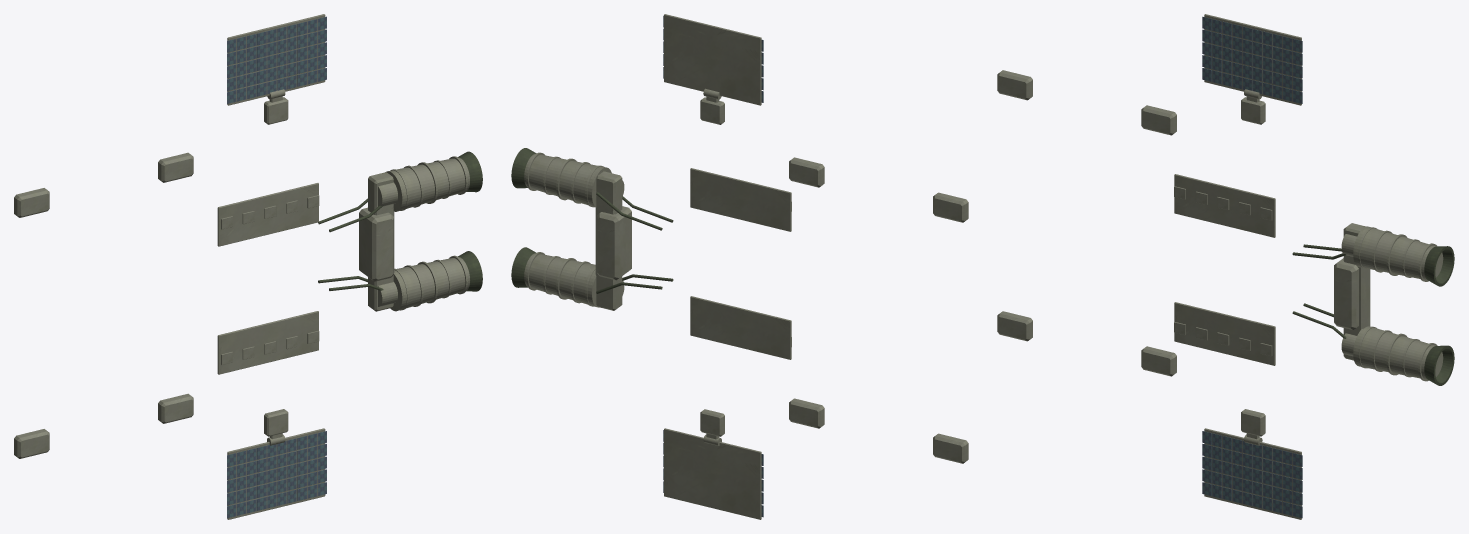
Rendered from ECHO7_11_Propulsion_Paneles.obj.
3 renders of one model, left to right at view 1: azimuth 30°, elevation 25°; view 2: azimuth 150°, elevation 25°; view 3: azimuth 330°, elevation 25°, orthographic.
Visible parts, largest first — view 1: ECHO7_11_Propulsion_Paneles__Soporte_radiadores_01, ECHO7_11_Propulsion_Paneles__Soporte_radiadores_02, ECHO7_11_Propulsion_Paneles__Cuerpo_motor_02, ECHO7_11_Propulsion_Paneles__Cuerpo_motor_01, ECHO7_11_Propulsion_Paneles__Nucleo_ingenieria_01, ECHO7_11_Propulsion_Paneles__Panel_solar_marco_02, ECHO7_11_Propulsion_Paneles__Panel_solar_marco_01, ECHO7_11_Propulsion_Paneles__Travesano_motores_01, ECHO7_11_Propulsion_Paneles__Union_estructural_lateral_02, ECHO7_11_Propulsion_Paneles__Union_estructural_lateral_04, ECHO7_11_Propulsion_Paneles__Union_estructural_lateral_03, ECHO7_11_Propulsion_Paneles__Union_estructural_lateral_01 (+4 smaller); view 2: ECHO7_11_Propulsion_Paneles__Panel_solar_marco_02, ECHO7_11_Propulsion_Paneles__Panel_solar_marco_01, ECHO7_11_Propulsion_Paneles__Soporte_radiadores_01, ECHO7_11_Propulsion_Paneles__Soporte_radiadores_02, ECHO7_11_Propulsion_Paneles__Cuerpo_motor_02, ECHO7_11_Propulsion_Paneles__Cuerpo_motor_01, ECHO7_11_Propulsion_Paneles__Nucleo_ingenieria_01, ECHO7_11_Propulsion_Paneles__Travesano_motores_01, ECHO7_11_Propulsion_Paneles__Union_estructural_lateral_02, ECHO7_11_Propulsion_Paneles__Union_estructural_lateral_04, ECHO7_11_Propulsion_Paneles__Union_estructural_lateral_01, ECHO7_11_Propulsion_Paneles__Union_estructural_lateral_03 (+4 smaller); view 3: ECHO7_11_Propulsion_Paneles__Soporte_radiadores_01, ECHO7_11_Propulsion_Paneles__Soporte_radiadores_02, ECHO7_11_Propulsion_Paneles__Cuerpo_motor_02, ECHO7_11_Propulsion_Paneles__Cuerpo_motor_01, ECHO7_11_Propulsion_Paneles__Panel_solar_marco_02, ECHO7_11_Propulsion_Paneles__Panel_solar_marco_01, ECHO7_11_Propulsion_Paneles__Nucleo_ingenieria_01, ECHO7_11_Propulsion_Paneles__Travesano_motores_01, ECHO7_11_Propulsion_Paneles__Tobera_abierta_01, ECHO7_11_Propulsion_Paneles__Tobera_abierta_02, ECHO7_11_Propulsion_Paneles__Union_estructural_lateral_02, ECHO7_11_Propulsion_Paneles__Union_estructural_lateral_04 (+4 smaller).
Part boxes in pixels (<box>): ECHO7_11_Propulsion_Paneles__Soporte_radiadores_01: <box>217,311,318,374</box>; ECHO7_11_Propulsion_Paneles__Soporte_radiadores_02: <box>217,183,318,246</box>; ECHO7_11_Propulsion_Paneles__Cuerpo_motor_02: <box>385,157,469,211</box>; ECHO7_11_Propulsion_Paneles__Cuerpo_motor_01: <box>390,257,469,311</box>; ECHO7_11_Propulsion_Paneles__Nucleo_ingenieria_01: <box>359,207,393,281</box>; ECHO7_11_Propulsion_Paneles__Panel_solar_marco_02: <box>227,14,325,105</box>; ECHO7_11_Propulsion_Paneles__Panel_solar_marco_01: <box>227,428,325,519</box>; ECHO7_11_Propulsion_Paneles__Travesano_motores_01: <box>368,172,394,311</box>; ECHO7_11_Propulsion_Paneles__Union_estructural_lateral_02: <box>158,393,193,423</box>; ECHO7_11_Propulsion_Paneles__Union_estructural_lateral_04: <box>158,152,193,182</box>; ECHO7_11_Propulsion_Paneles__Union_estructural_lateral_03: <box>14,188,49,217</box>; ECHO7_11_Propulsion_Paneles__Union_estructural_lateral_01: <box>14,429,49,458</box>; ECHO7_11_Propulsion_Paneles__Panel_solar_marco_02: <box>664,14,761,105</box>; ECHO7_11_Propulsion_Paneles__Panel_solar_marco_01: <box>664,428,761,519</box>; ECHO7_11_Propulsion_Paneles__Soporte_radiadores_01: <box>690,296,791,359</box>; ECHO7_11_Propulsion_Paneles__Soporte_radiadores_02: <box>690,168,791,231</box>; ECHO7_11_Propulsion_Paneles__Cuerpo_motor_02: <box>524,153,611,207</box>; ECHO7_11_Propulsion_Paneles__Cuerpo_motor_01: <box>524,253,598,307</box>; ECHO7_11_Propulsion_Paneles__Nucleo_ingenieria_01: <box>597,206,631,280</box>; ECHO7_11_Propulsion_Paneles__Travesano_motores_01: <box>595,171,622,310</box>; ECHO7_11_Propulsion_Paneles__Union_estructural_lateral_02: <box>789,398,824,428</box>; ECHO7_11_Propulsion_Paneles__Union_estructural_lateral_04: <box>789,157,824,187</box>; ECHO7_11_Propulsion_Paneles__Union_estructural_lateral_01: <box>933,433,968,463</box>; ECHO7_11_Propulsion_Paneles__Union_estructural_lateral_03: <box>933,192,968,222</box>; ECHO7_11_Propulsion_Paneles__Soporte_radiadores_01: <box>1174,302,1275,365</box>; ECHO7_11_Propulsion_Paneles__Soporte_radiadores_02: <box>1174,174,1275,237</box>; ECHO7_11_Propulsion_Paneles__Cuerpo_motor_02: <box>1353,226,1443,280</box>; ECHO7_11_Propulsion_Paneles__Cuerpo_motor_01: <box>1353,326,1443,379</box>; ECHO7_11_Propulsion_Paneles__Panel_solar_marco_02: <box>1204,14,1301,105</box>; ECHO7_11_Propulsion_Paneles__Panel_solar_marco_01: <box>1204,428,1301,519</box>; ECHO7_11_Propulsion_Paneles__Nucleo_ingenieria_01: <box>1334,258,1358,330</box>; ECHO7_11_Propulsion_Paneles__Travesano_motores_01: <box>1343,223,1370,360</box>; ECHO7_11_Propulsion_Paneles__Tobera_abierta_01: <box>1424,345,1454,385</box>; ECHO7_11_Propulsion_Paneles__Tobera_abierta_02: <box>1424,246,1454,286</box>; ECHO7_11_Propulsion_Paneles__Union_estructural_lateral_02: <box>1141,346,1176,376</box>; ECHO7_11_Propulsion_Paneles__Union_estructural_lateral_04: <box>1141,105,1176,135</box>.
Bounding box in the file's own units: 62.65 × 64 × 5.1.
3 materials, 3 textured.
